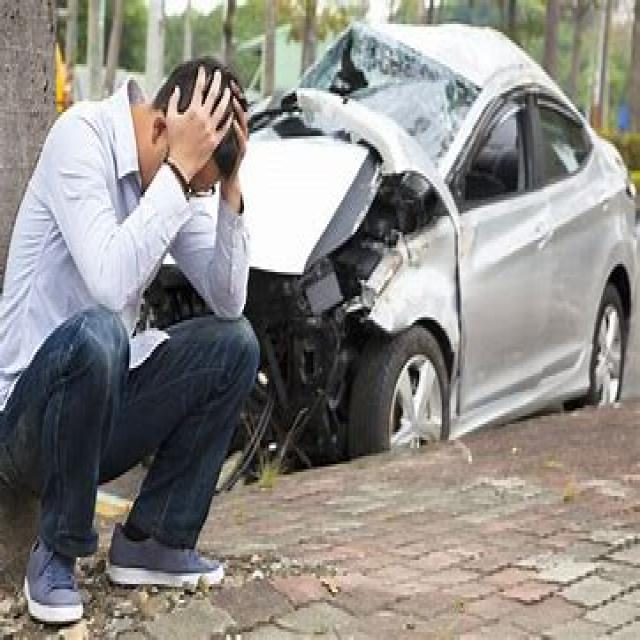Accident: (158, 25, 600, 464)
